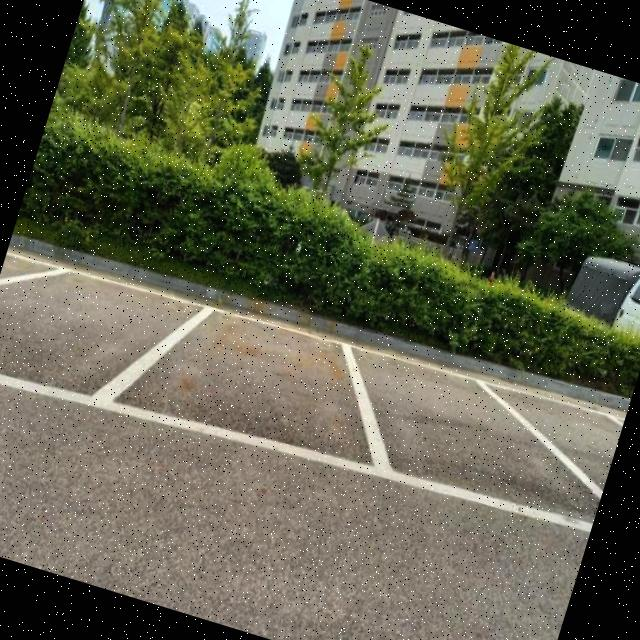empty: (136, 294, 404, 495), (346, 346, 556, 528), (0, 243, 170, 435)
